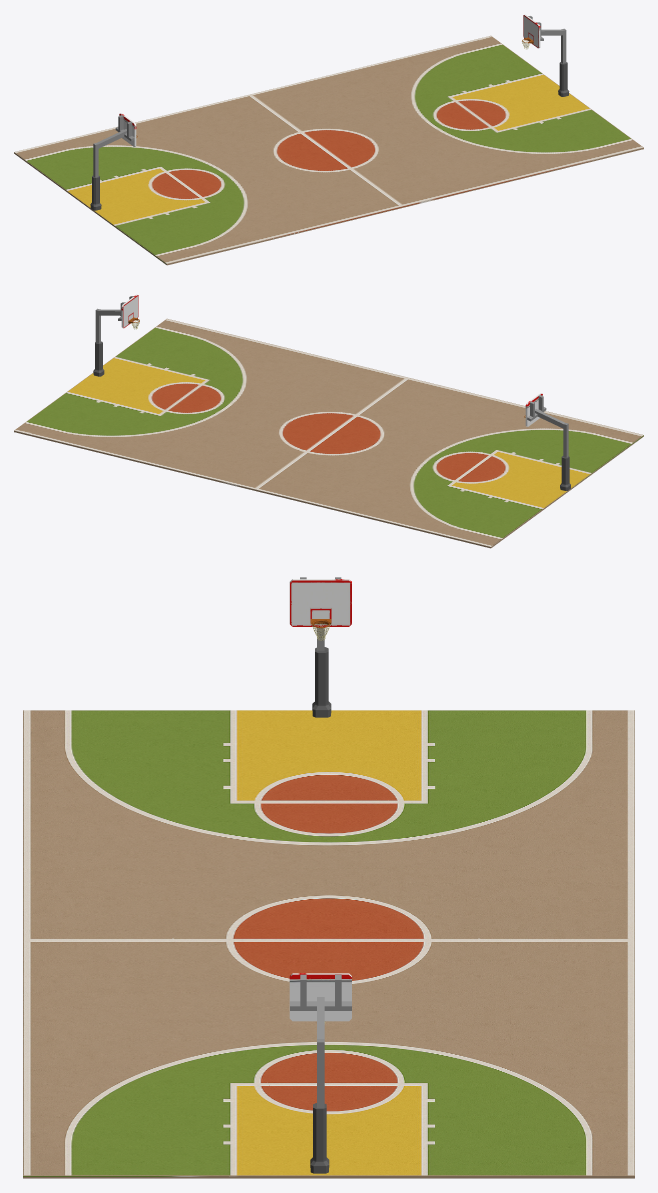
The model's file is Basketball court.glb.
3 renders of one model, top to bottom at view 1: azimuth 30°, elevation 25°; view 2: azimuth 150°, elevation 25°; view 3: azimuth 270°, elevation 25°, orthographic. The views are drawn at different scales.
Parts seen in each view (by area): view 1: pTorus5; view 2: pTorus5; view 3: pTorus5.
Boxes of the visible parts, x1=… form: pTorus5: x1=14, y1=14, x2=643, y2=265; pTorus5: x1=14, y1=294, x2=643, y2=548; pTorus5: x1=23, y1=577, x2=634, y2=1178.
Bounding box in the file's own units: 27.01 × 4.55 × 15.
Materials: 6 (2 with a texture image).
